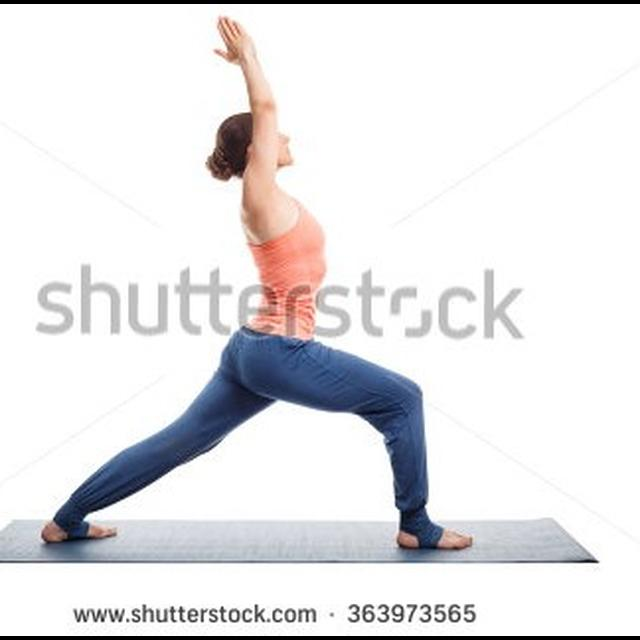Warrior_I: (18, 8, 478, 564)
